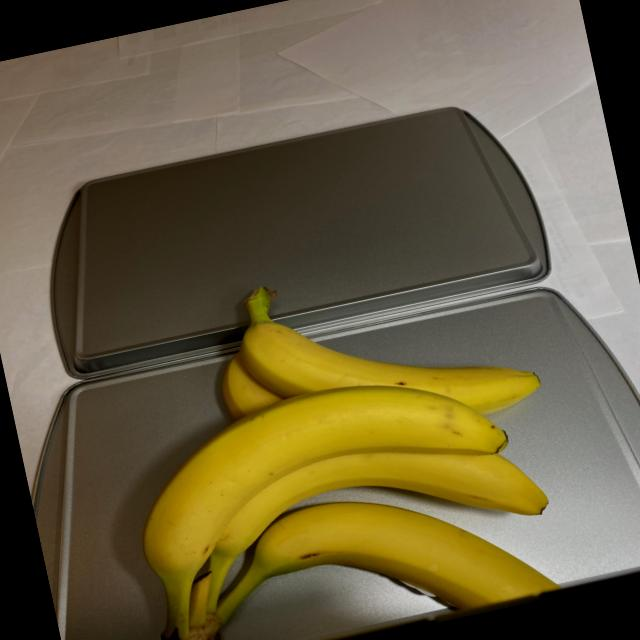banana: (85, 230, 592, 640)
